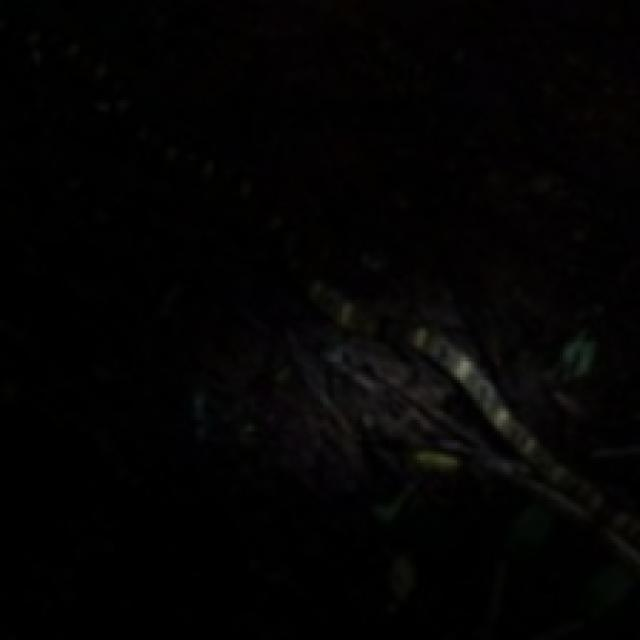dog-toothed cat snake: (412, 328, 640, 566)
